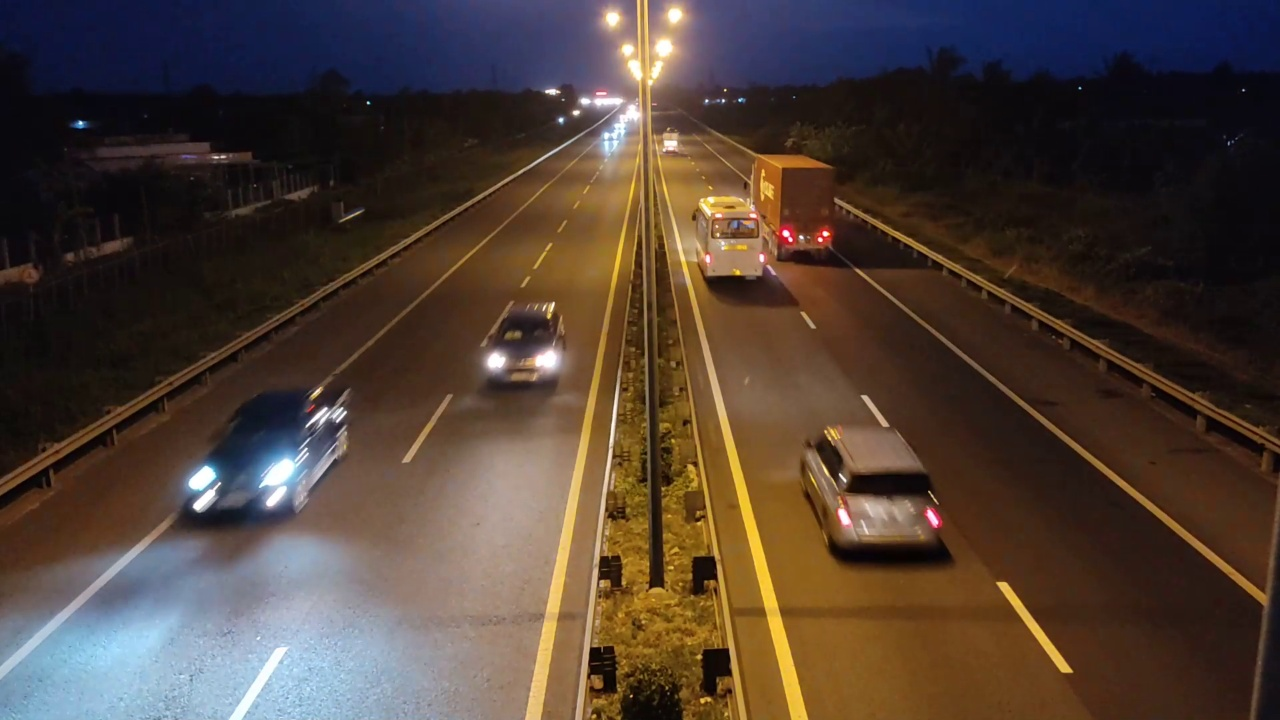bus: (694, 189, 768, 288)
car: (181, 385, 352, 525), (798, 421, 949, 559), (479, 301, 566, 390)
truck: (749, 153, 837, 263)
